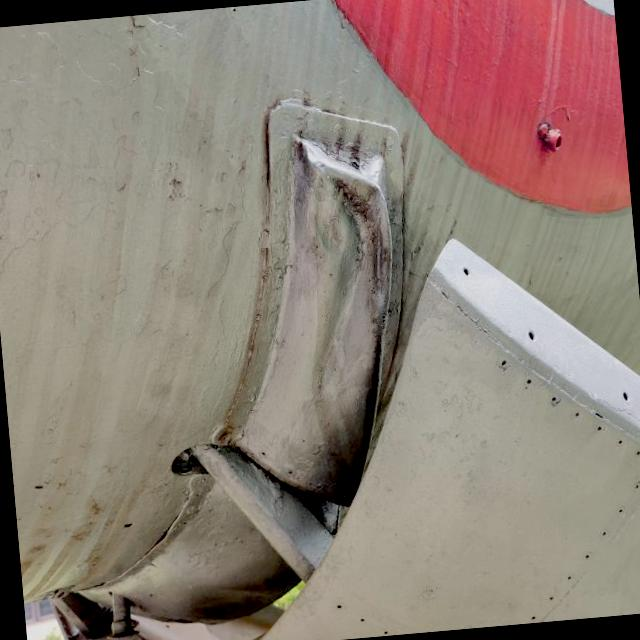dent: (263, 133, 432, 508)
